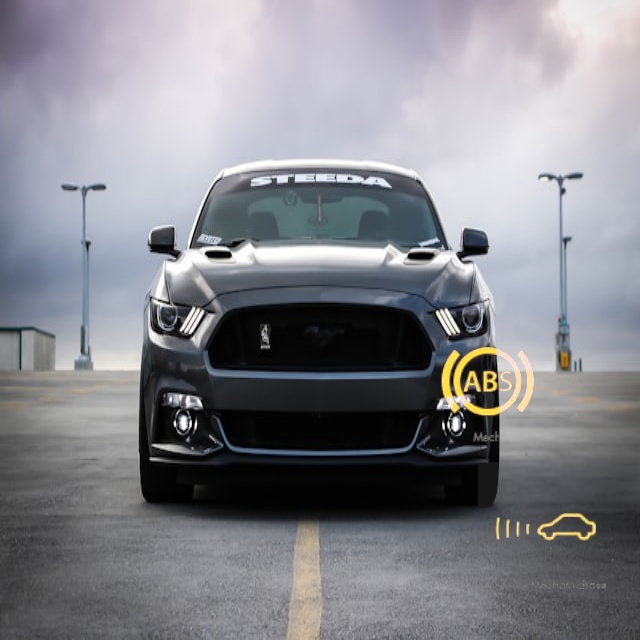symbol: (478, 462, 612, 596), (422, 317, 553, 448)
